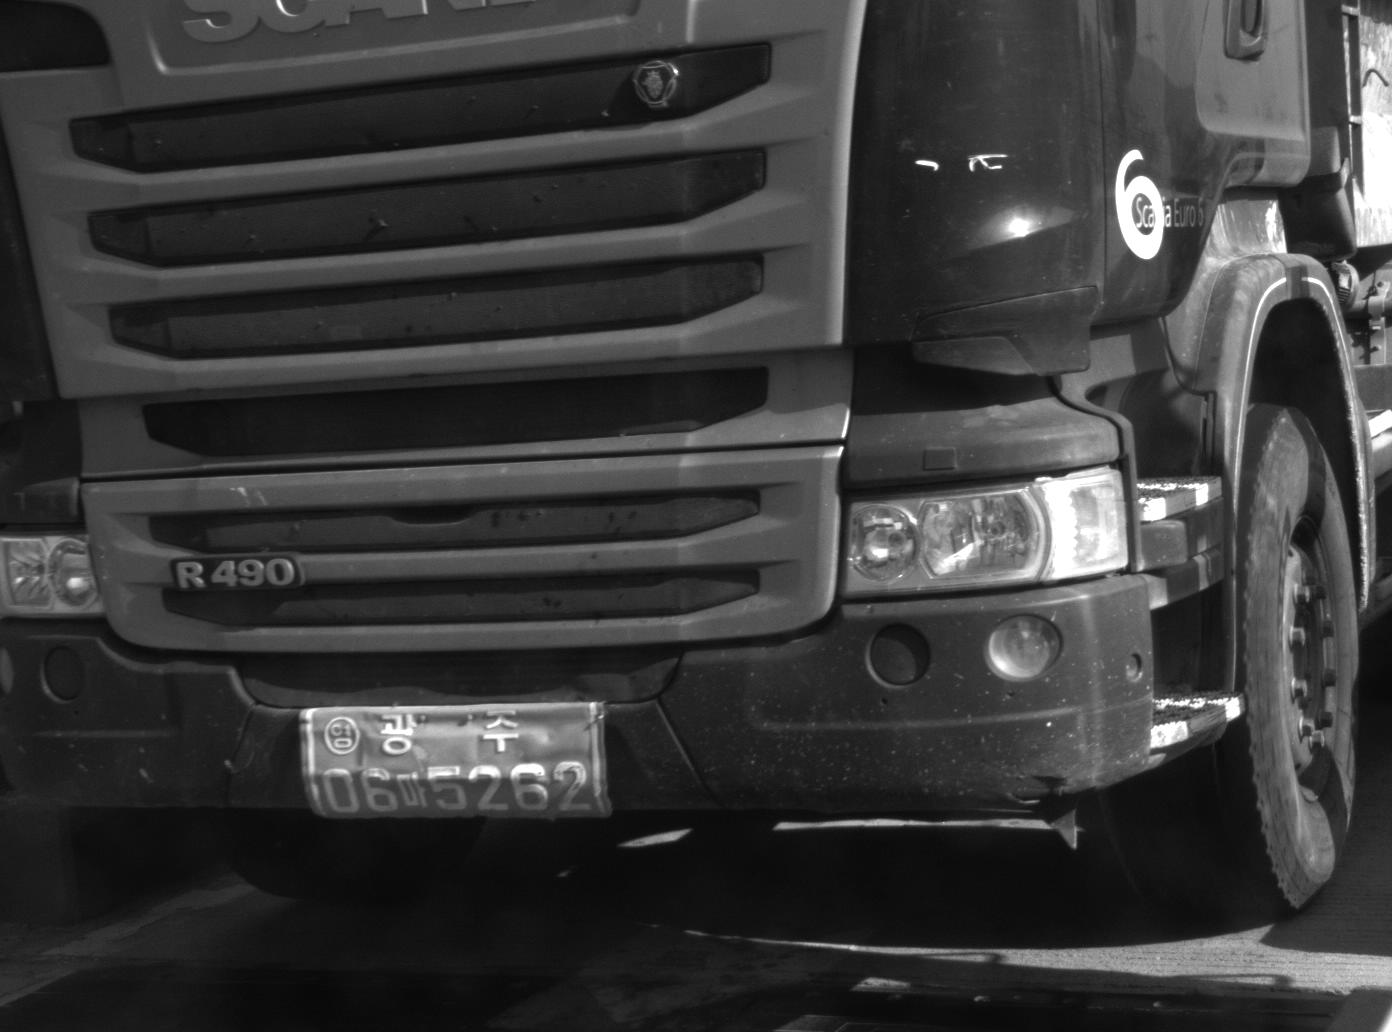car: (1, 1, 1390, 932)
plate: (296, 700, 615, 820)
